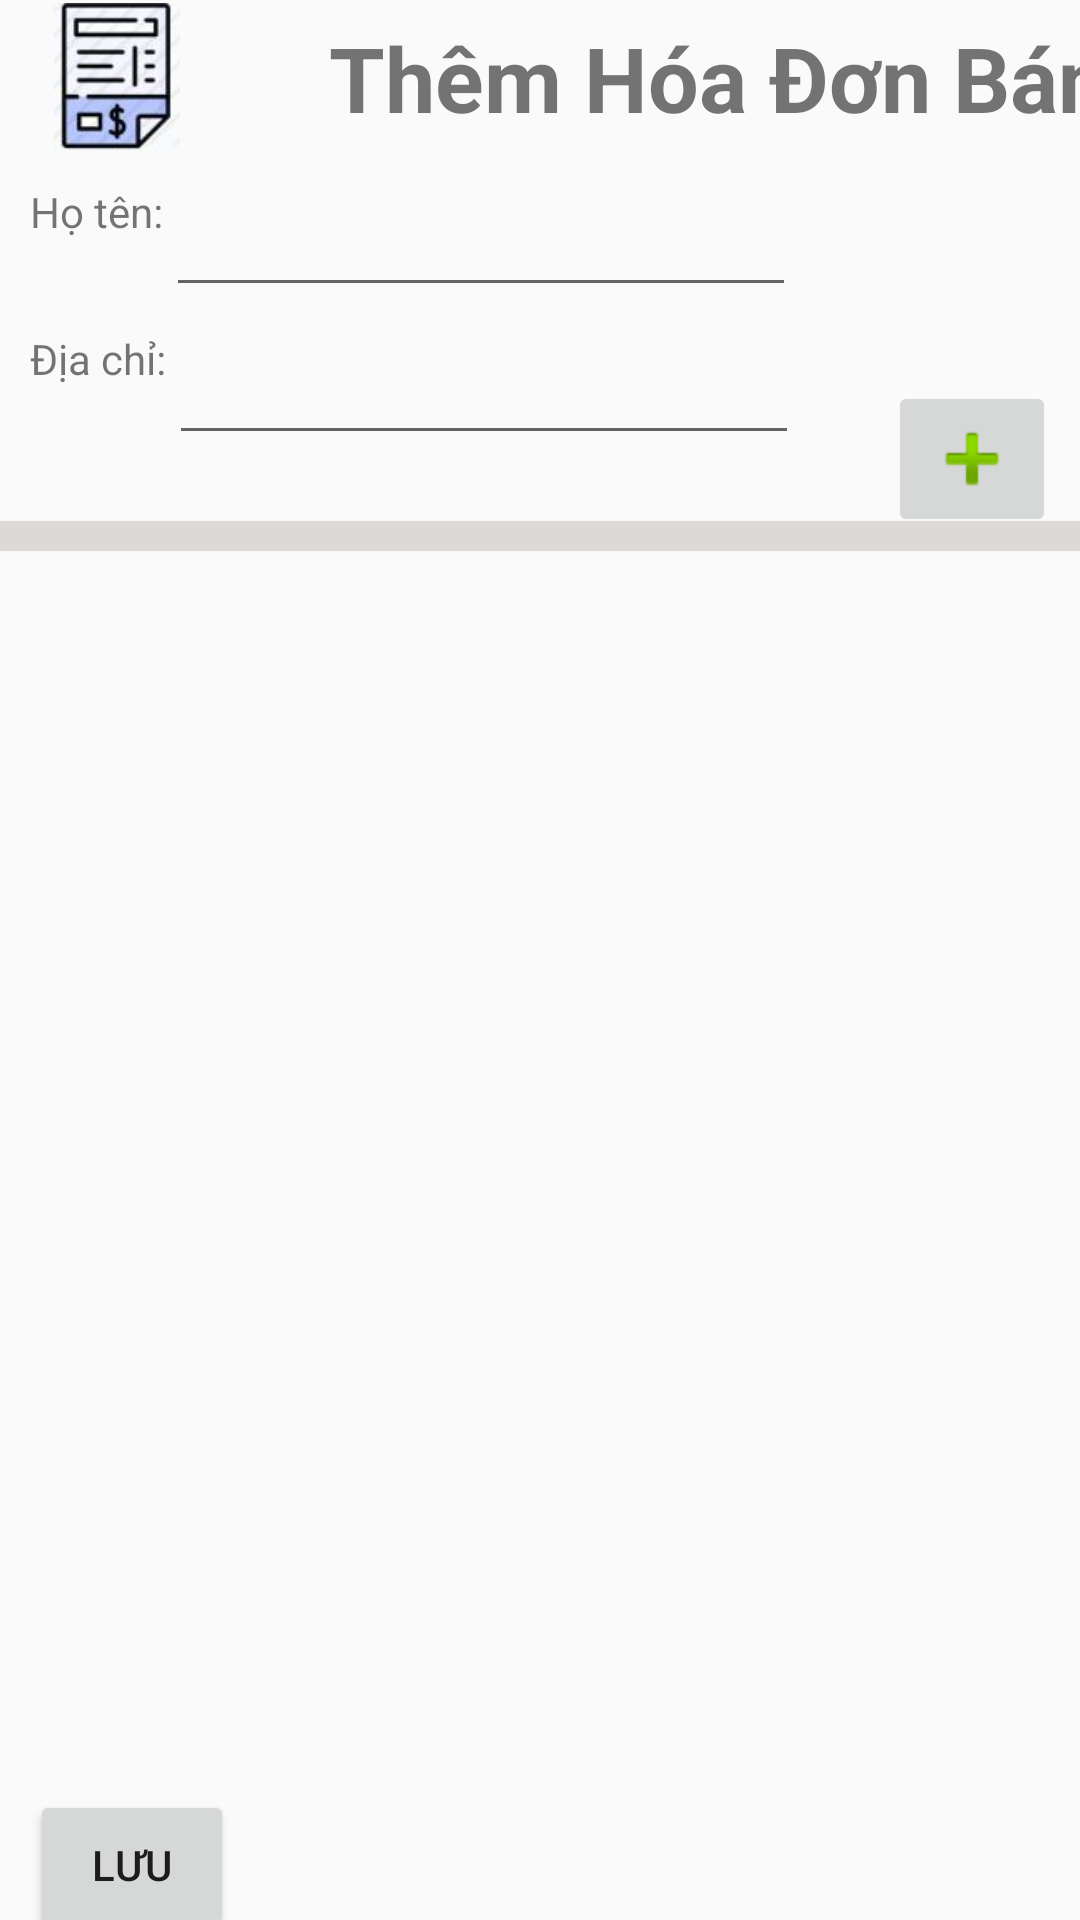

Screen size 1080 × 1920. Icon name, then its box in pixels as (x1, y1, x2, y2):
add: (900, 399, 1044, 519)
